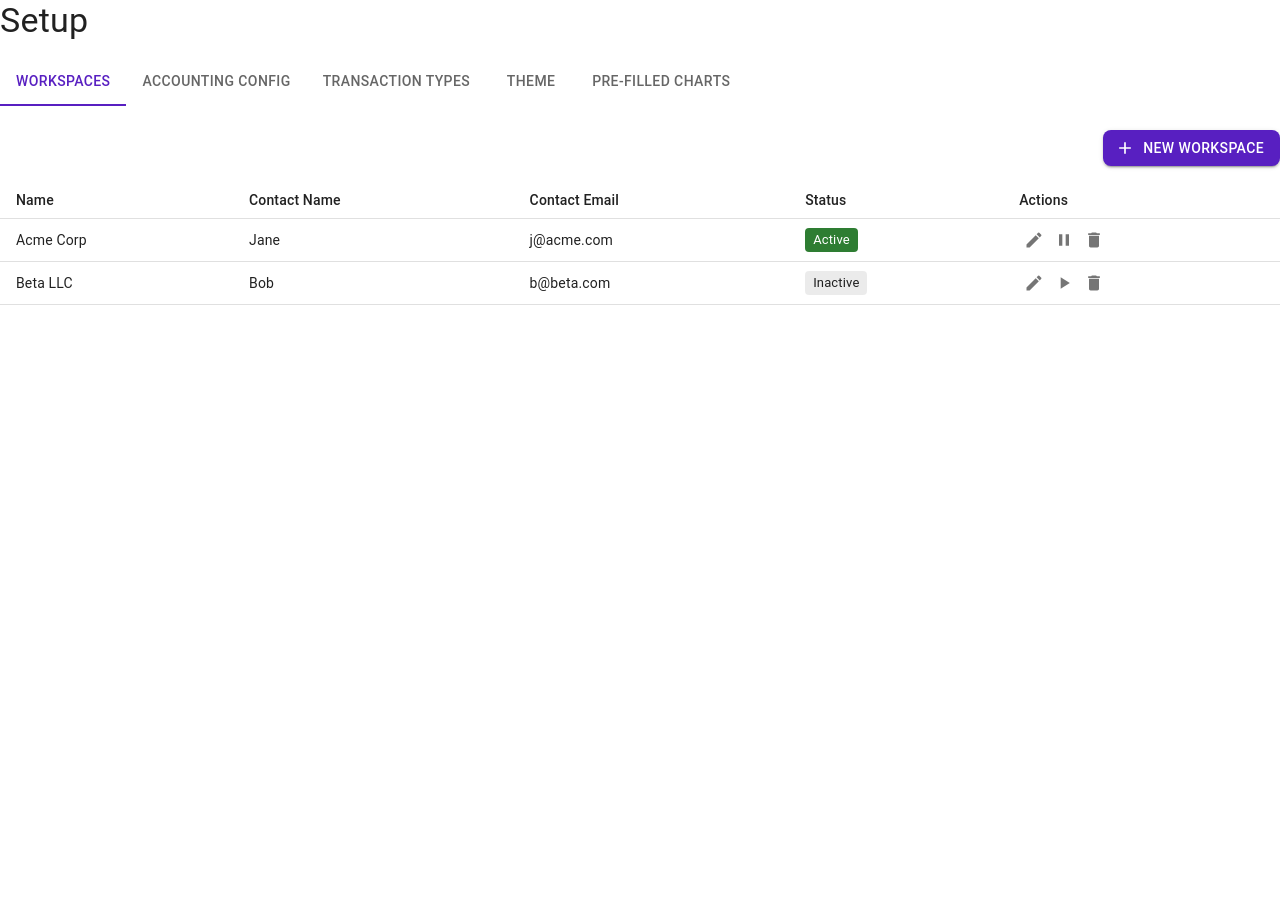
SetupPage — Workspaces tab › opens edit dialog with pre-filled data when Edit is clicked
The image size is (1280, 900).
Click the button with test id "edit-workspace-t-1".
click(1034, 240)  # box [1019,226,1049,256]
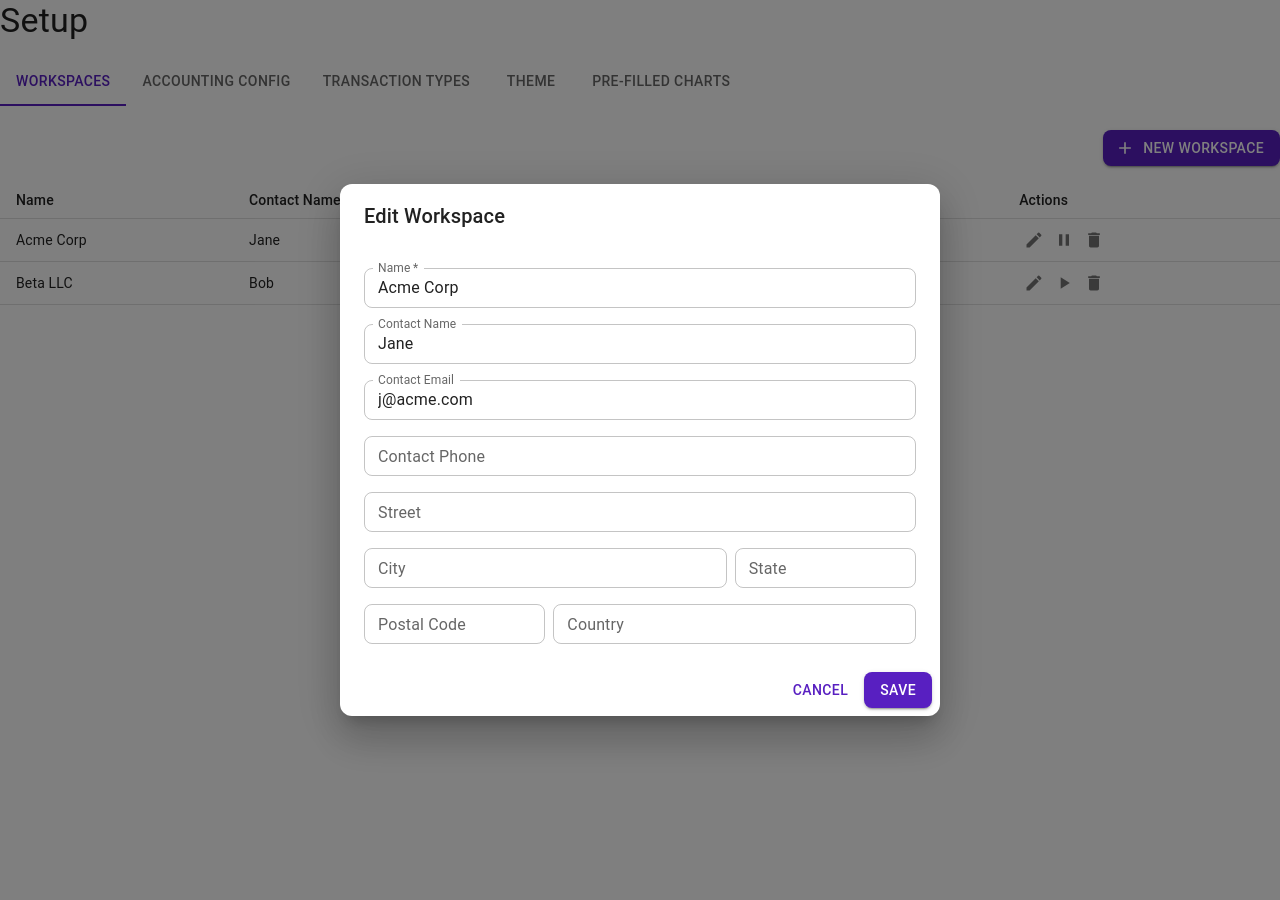
Expected: the element with test id "workspace-form-dialog" is shown
Expected: the field with test id "workspace-name-input" holds "Acme Corp", [364,268,916,308]
